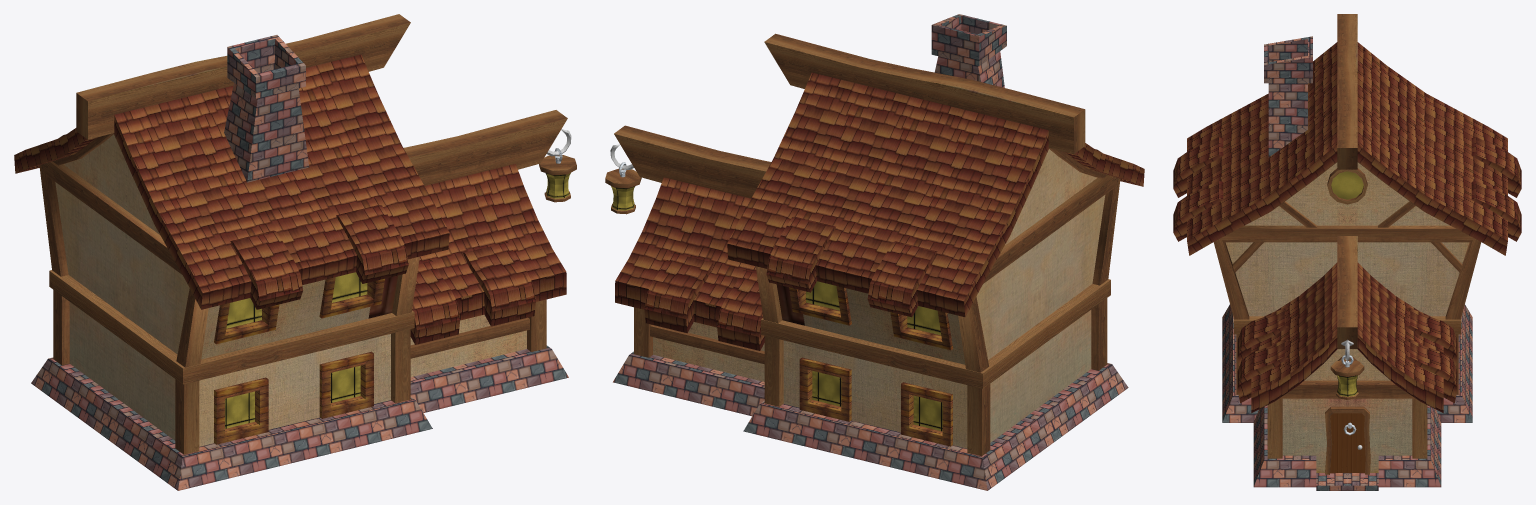
File: house-2.glb
3 renders of one model, left to right at view 1: azimuth 30°, elevation 25°; view 2: azimuth 150°, elevation 25°; view 3: azimuth 270°, elevation 25°, orthographic. The views are drawn at different scales.
Visible parts, largest first — view 1: House 01_House 01_0, House 01_Roof Tex 02_0, House 01_Cartoon_Wall_Tex03_0, House 01_Cartoon Wood Tex 01_0, House 01_Window Glass Tex01_0; view 2: House 01_Roof Tex 02_0, House 01_House 01_0, House 01_Cartoon_Wall_Tex03_0, House 01_Cartoon Wood Tex 01_0, House 01_Window Glass Tex01_0; view 3: House 01_Roof Tex 02_0, House 01_House 01_0, House 01_Cartoon_Wall_Tex03_0, House 01_Door Tex_0, House 01_Window Glass Tex01_0.
Boxes of the visible parts, x1,y1,x2,y2 form: House 01_House 01_0: [39, 14, 576, 454]; House 01_Roof Tex 02_0: [14, 54, 566, 344]; House 01_Cartoon_Wall_Tex03_0: [31, 35, 568, 490]; House 01_Cartoon Wood Tex 01_0: [214, 277, 384, 444]; House 01_Window Glass Tex01_0: [225, 173, 570, 428]; House 01_Roof Tex 02_0: [615, 72, 1144, 350]; House 01_House 01_0: [605, 33, 1120, 456]; House 01_Cartoon_Wall_Tex03_0: [613, 14, 1128, 490]; House 01_Cartoon Wood Tex 01_0: [789, 286, 953, 446]; House 01_Window Glass Tex01_0: [611, 186, 942, 431]; House 01_Roof Tex 02_0: [1173, 42, 1521, 412]; House 01_House 01_0: [1213, 14, 1481, 474]; House 01_Cartoon_Wall_Tex03_0: [1222, 36, 1472, 490]; House 01_Door Tex_0: [1330, 413, 1365, 473]; House 01_Window Glass Tex01_0: [1331, 171, 1363, 396].
Bounding box in the file's own units: 5.61 × 4.14 × 4.04.
Materials: 9 (9 with a texture image).
